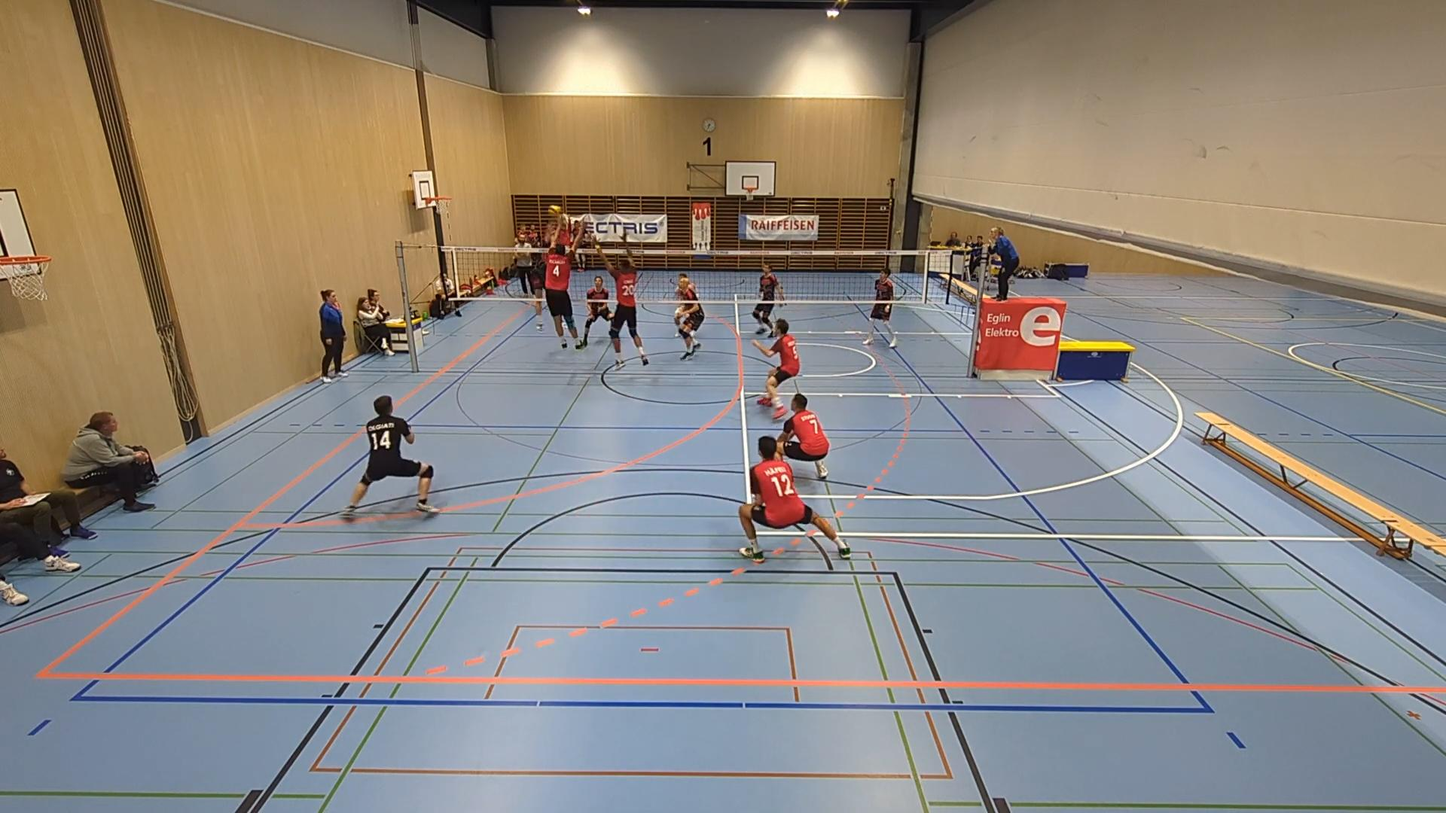attacco: (532, 216, 560, 300)
muro: (601, 242, 658, 363), (538, 219, 588, 351)
